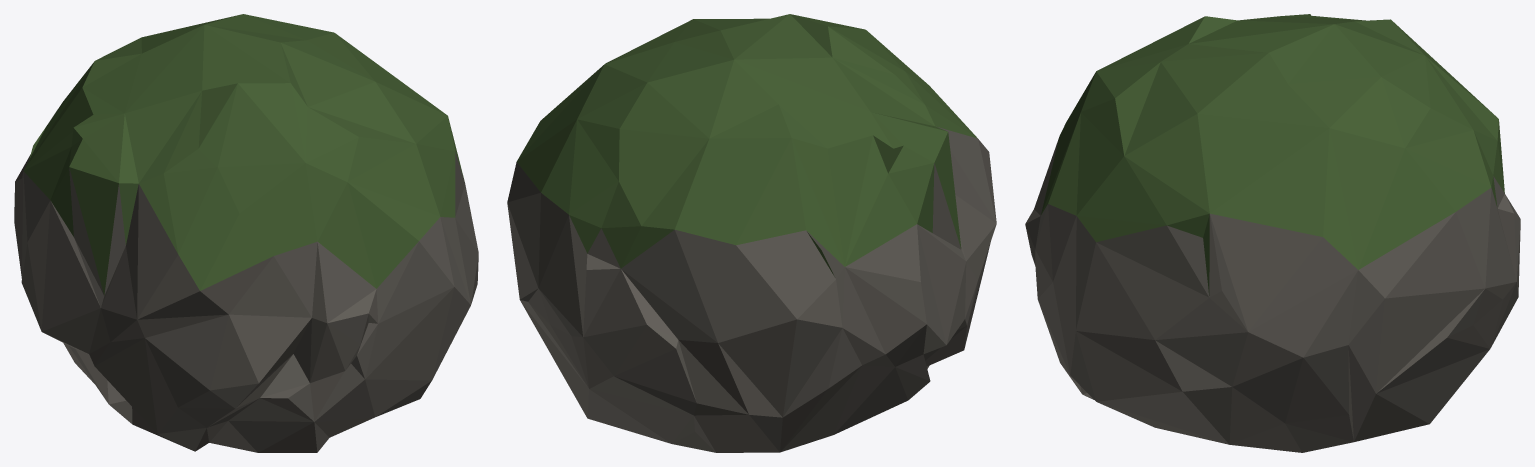
File: rockball-4.glb
3 renders of one model, left to right at view 1: azimuth 30°, elevation 25°; view 2: azimuth 150°, elevation 25°; view 3: azimuth 270°, elevation 25°, orthographic. The views are drawn at different scales.
Parts seen in each view (by area): view 1: output_unwrapped; view 2: output_unwrapped; view 3: output_unwrapped.
Boxes of the visible parts, x1=… form: output_unwrapped: x1=14, y1=14, x2=478, y2=452; output_unwrapped: x1=507, y1=14, x2=996, y2=452; output_unwrapped: x1=1025, y1=14, x2=1520, y2=452.
Size of the model in its own units: 1.96 by 1.56 by 1.99.
